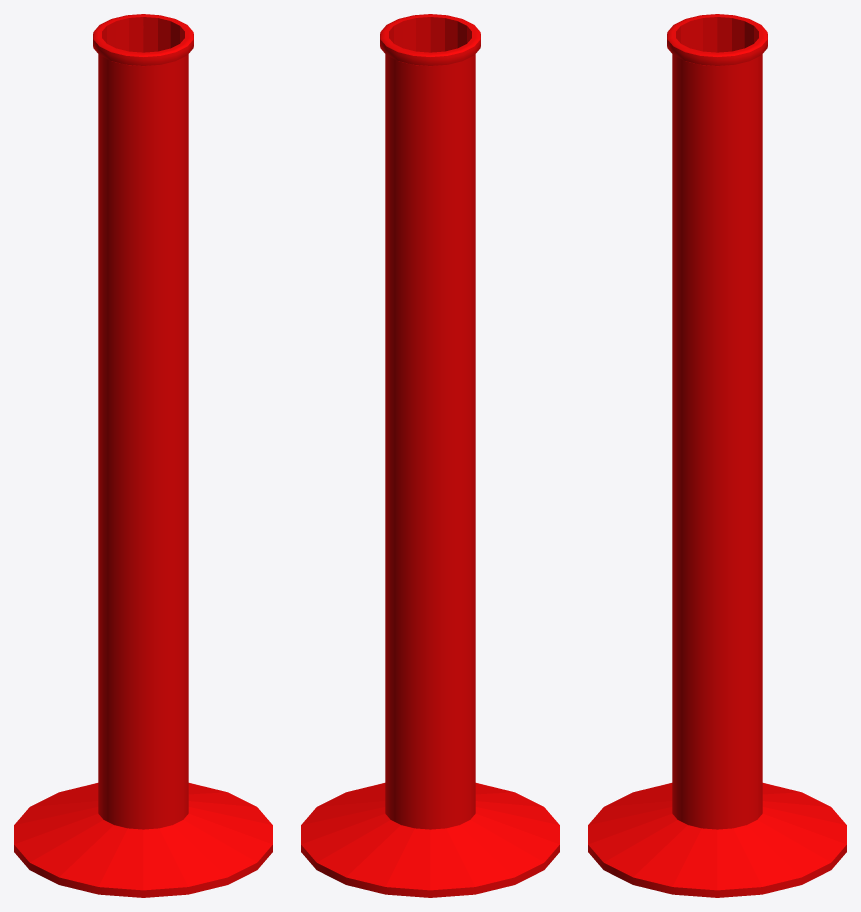
File: LabProp04.fbx
3 views of the same model, side by side, from view 1: azimuth 30°, elevation 25°; view 2: azimuth 150°, elevation 25°; view 3: azimuth 270°, elevation 25° (orthographic).
Parts seen in each view (by area): view 1: LabProp04; view 2: LabProp04; view 3: LabProp04.
Part boxes in pixels (left/top/right/bottom): LabProp04: left=14, top=14, right=272, bottom=897; LabProp04: left=301, top=14, right=559, bottom=897; LabProp04: left=588, top=14, right=846, bottom=897.
Size of the model in its own units: 21.75 by 73.73 by 21.42.
